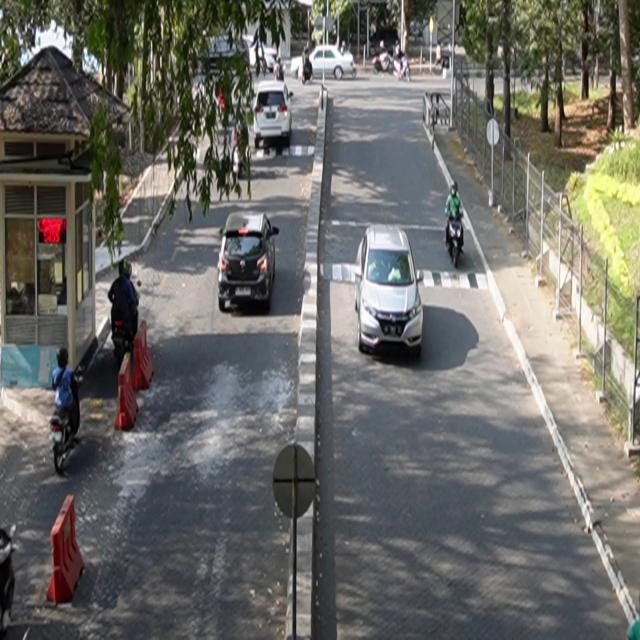car: (355, 224, 425, 357), (218, 211, 280, 313), (254, 81, 295, 149), (308, 45, 358, 81)
